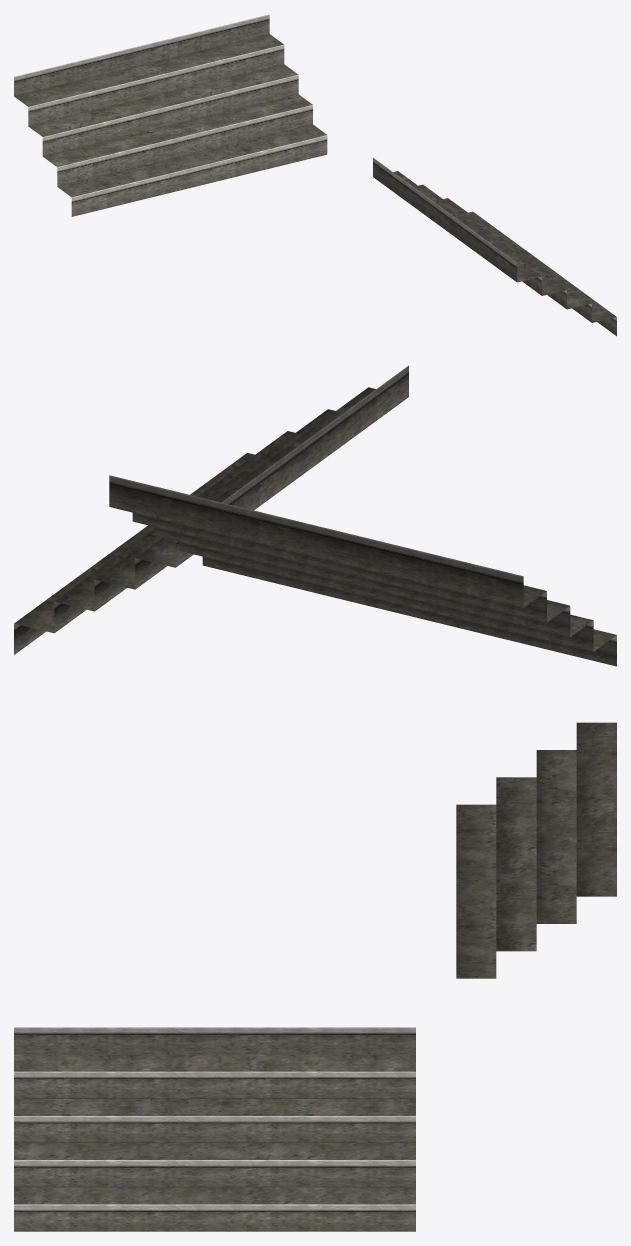
File: DWARF_PALACE_MAINHALL_STAIRS_05.fbx
3 views of the same model, one above another, from view 1: azimuth 30°, elevation 25°; view 2: azimuth 150°, elevation 25°; view 3: azimuth 270°, elevation 25° (orthographic). The views are drawn at different scales.
Visible parts, largest first — view 1: DWARF_PALACE_MAINHALL_STAIRS_05; view 2: DWARF_PALACE_MAINHALL_STAIRS_05; view 3: DWARF_PALACE_MAINHALL_STAIRS_05.
Part boxes in pixels (box(x1,y1,x2,y2)): DWARF_PALACE_MAINHALL_STAIRS_05: box(14, 14, 616, 336); DWARF_PALACE_MAINHALL_STAIRS_05: box(14, 365, 616, 666); DWARF_PALACE_MAINHALL_STAIRS_05: box(14, 722, 616, 1231).
Bounding box in the file's own units: 62000 × 30000 × 60000.
2 materials, 2 textured.
